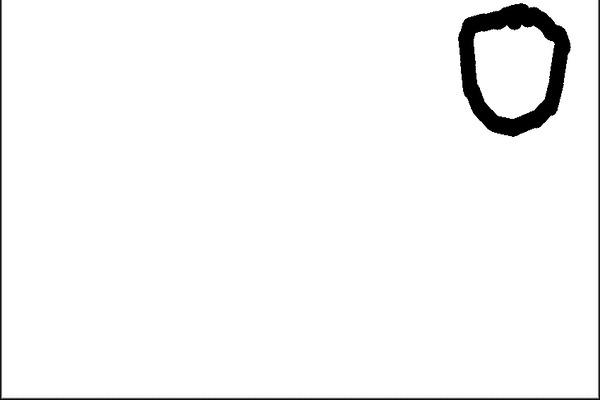O: (447, 3, 577, 143)
